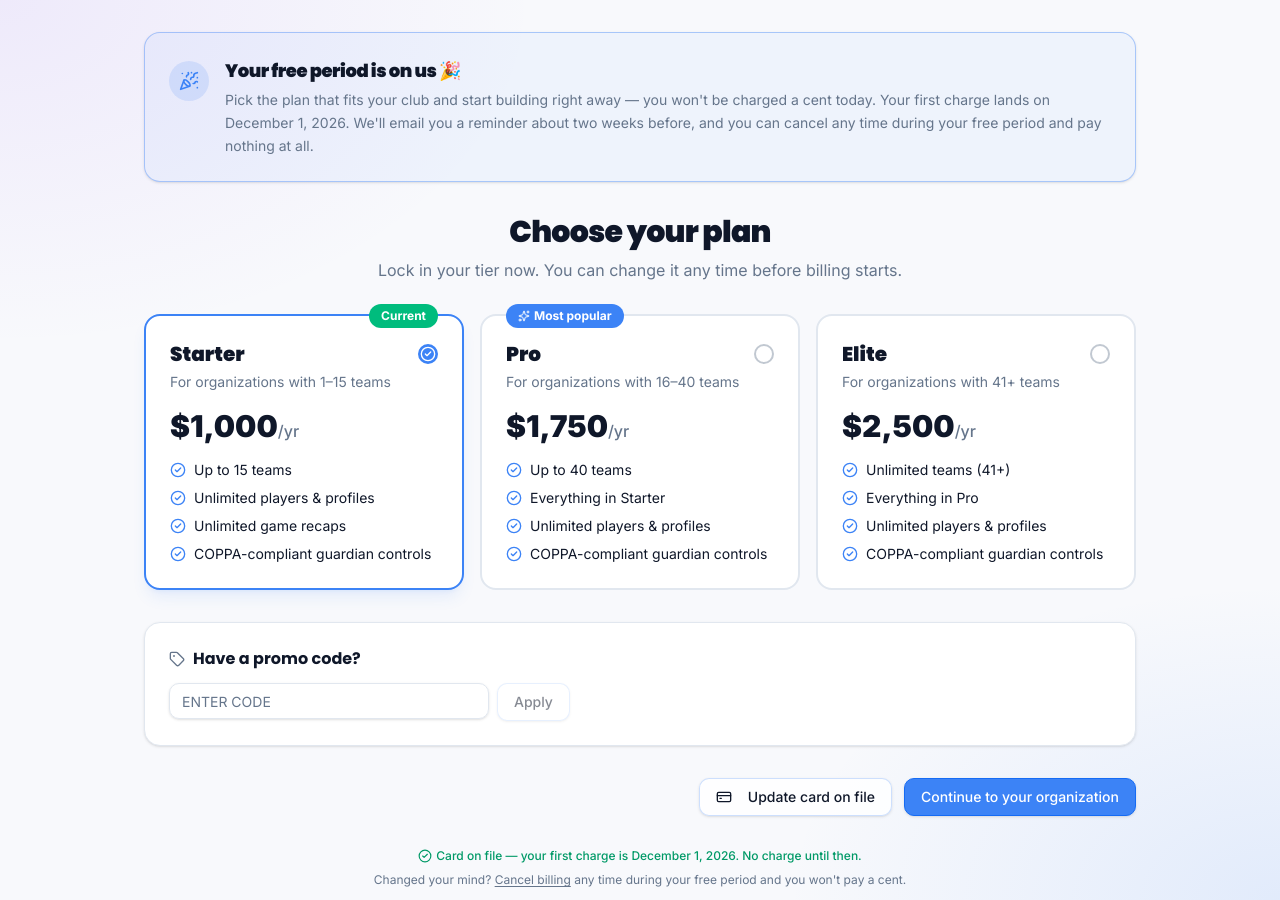
Scenario: FREE2027 referral plan setup › accepts a single custom linked code with a saved card and keeps separate referral credit
The image size is (1280, 900).
Type "CLUB-SOURCE" into the field with test id "input-promo" at (329, 701), box [169,683,489,719]
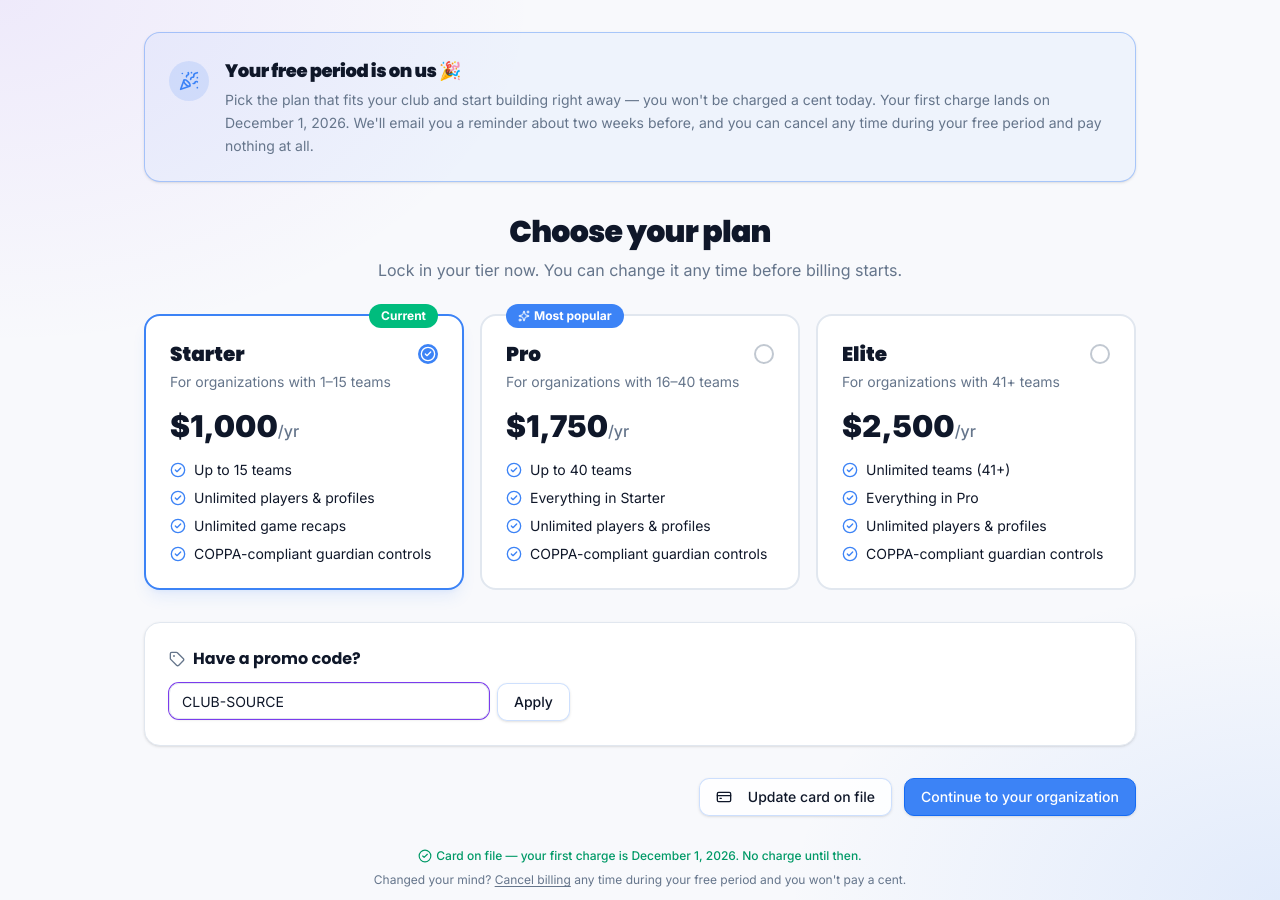
Click the button with test id "btn-apply-promo" at (533, 702), box [497,683,570,721]
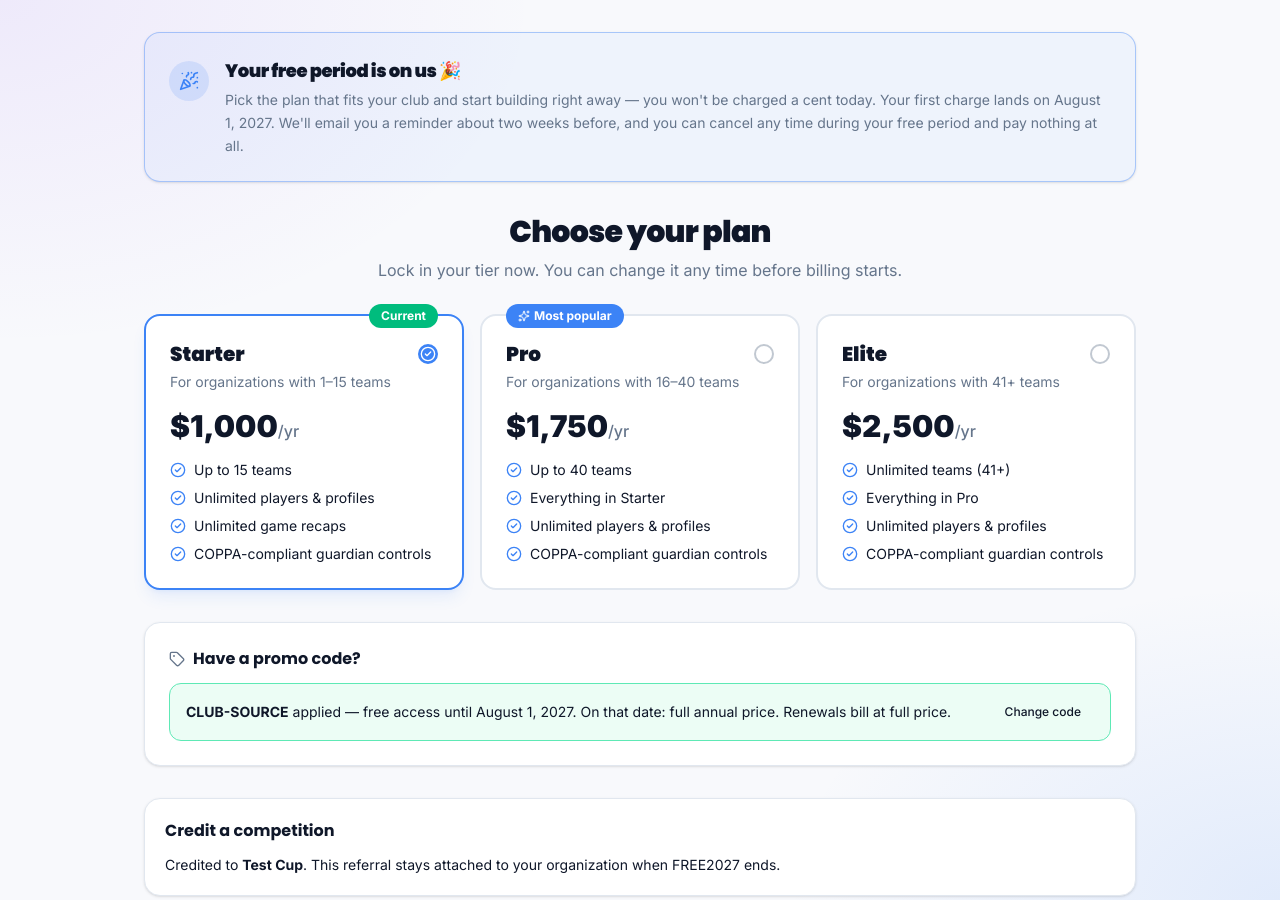
Check: the text "club-source" is shown, box [186,703,289,720]
Check: the heading "Credit a competition" is shown, box [165,819,335,842]
